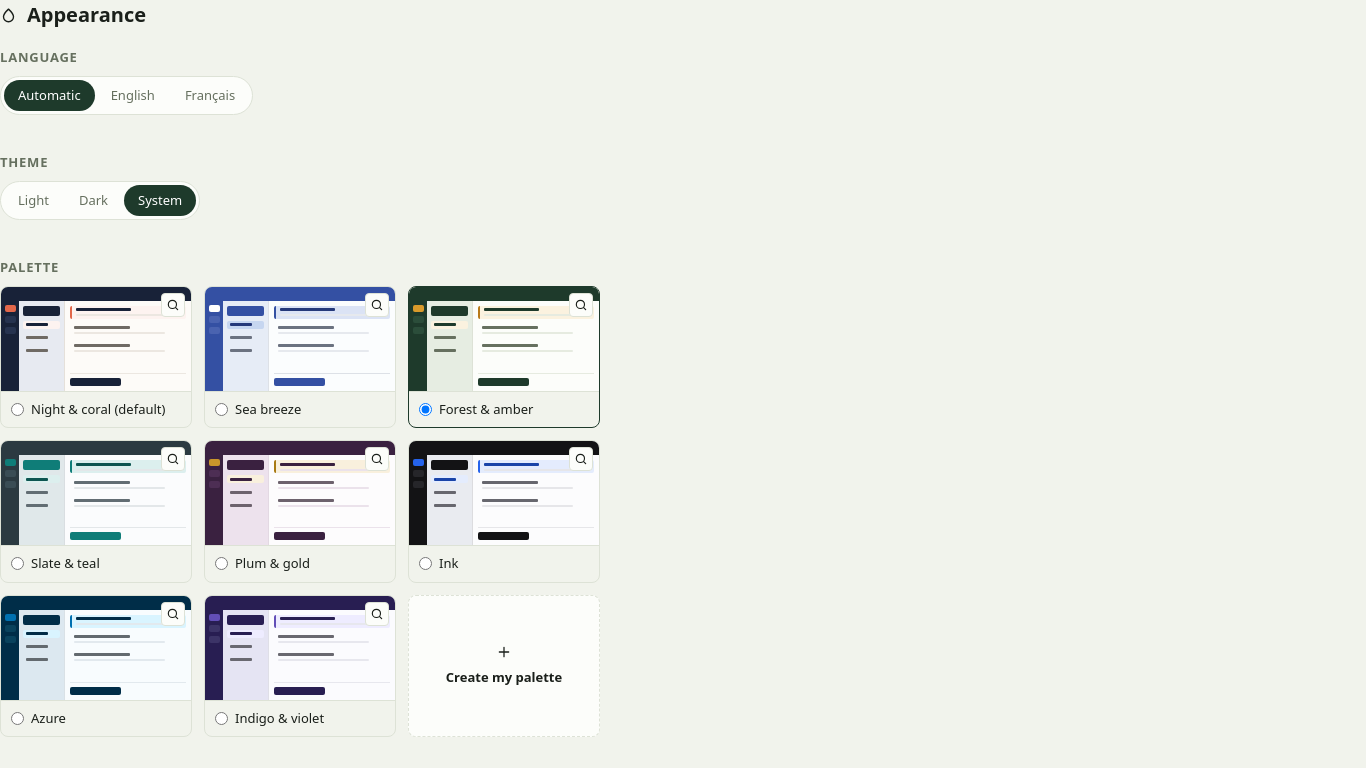
AppearancePage — my palette › starts the editor from the palette in use
This screenshot has width=1366, height=768.
Step 1. Click the button "Create my palette" → (504, 666), box [408,594,600,737]
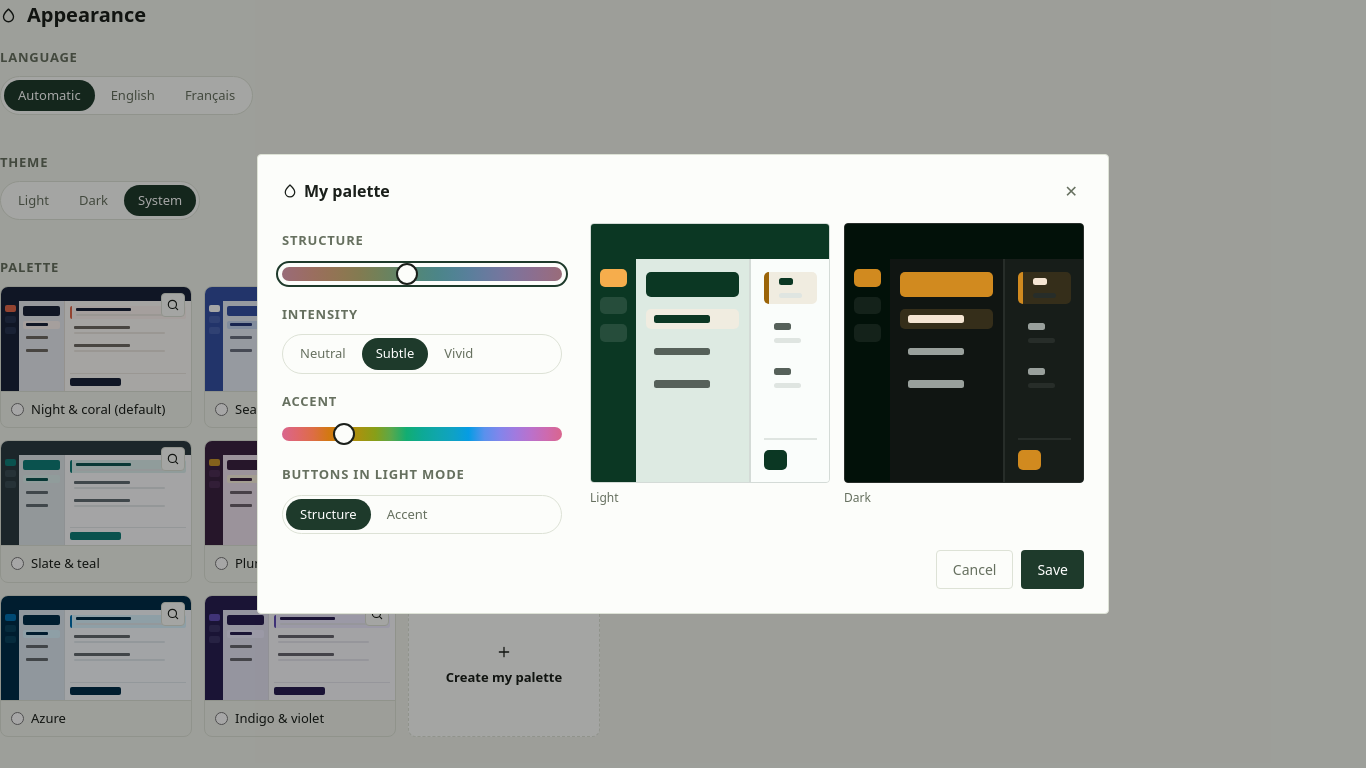
Check: the slider labelled "Structure" holds "159", box [282,266,562,280]
Check: the slider labelled "Accent" holds "71", box [282,427,562,441]
Check: the radio button labelled "Subtle" is checked, box [362,338,428,370]
